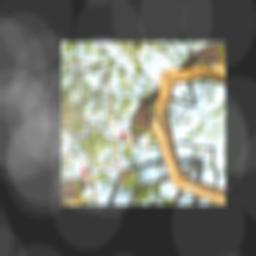Woodpecker: (107, 83, 182, 156)
